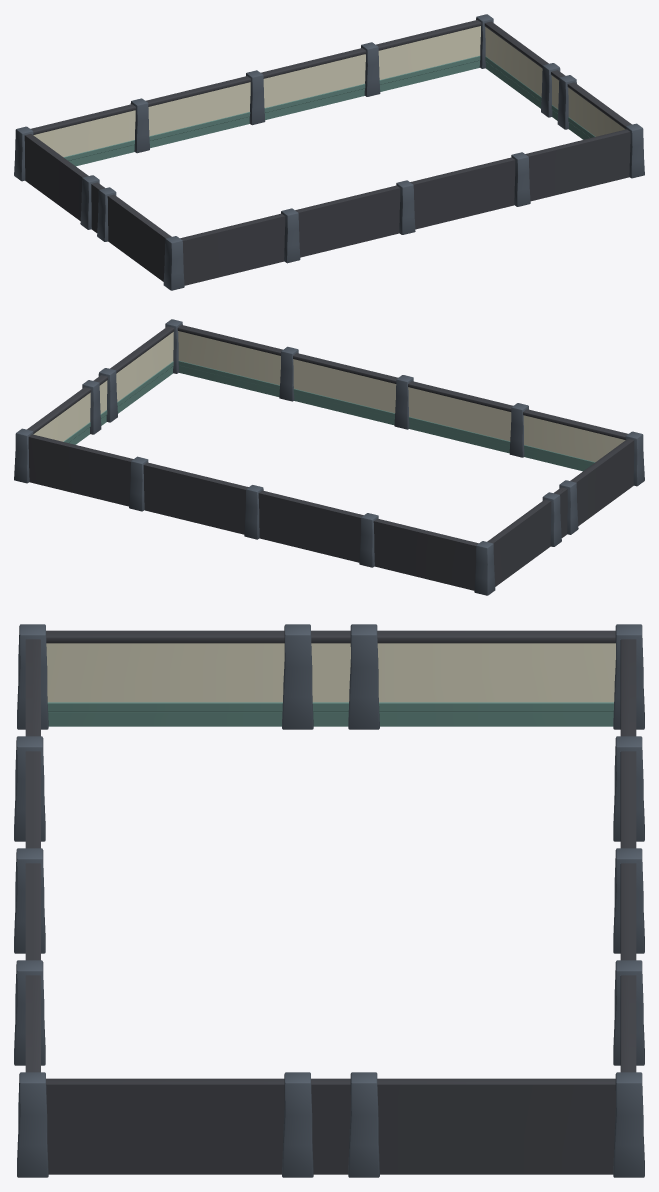
The model's file is MDL_Env_walls.fbx.
3 renders of one model, top to bottom at view 1: azimuth 30°, elevation 25°; view 2: azimuth 150°, elevation 25°; view 3: azimuth 270°, elevation 25°, orthographic. The views are drawn at different scales.
Visible parts, largest first — view 1: mesh_wall_scene; view 2: mesh_wall_scene; view 3: mesh_wall_scene.
Part boxes in pixels (<box>): mesh_wall_scene: <box>14,14,644,290</box>; mesh_wall_scene: <box>14,319,644,595</box>; mesh_wall_scene: <box>14,624,644,1177</box>.
Size of the model in its own units: 2637 by 252 by 1524.
Materials: 1 (1 with a texture image).
